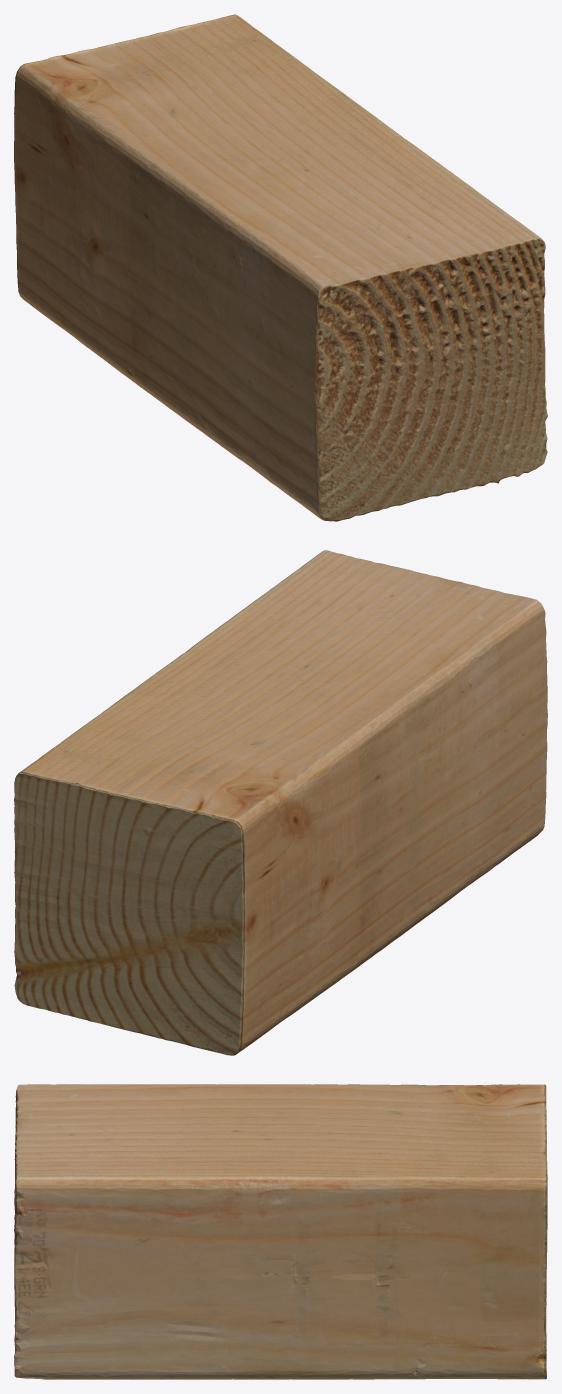
The model's file is wood_block.glb.
3 renders of one model, top to bottom at view 1: azimuth 30°, elevation 25°; view 2: azimuth 150°, elevation 25°; view 3: azimuth 270°, elevation 25°, orthographic. The views are drawn at different scales.
Visible parts, largest first — view 1: textured.obj; view 2: textured.obj; view 3: textured.obj.
Part boxes in pixels (x1,y1,x2,y2): textured.obj: (14,14,547,521); textured.obj: (14,550,547,1055); textured.obj: (14,1084,547,1379).
Bounding box in the file's own units: 0.0898 × 0.0893 × 0.2061.
1 material, 1 textured.
